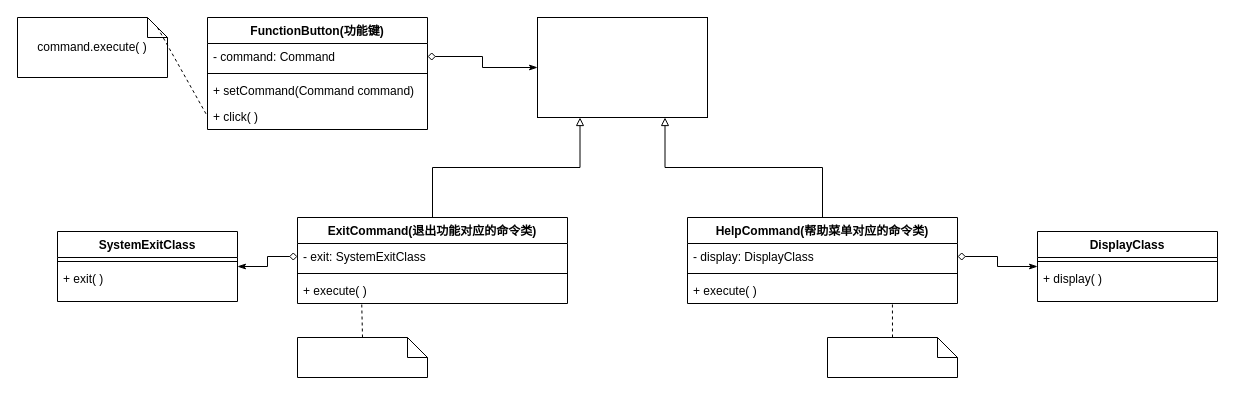
The diagram is 1235 pixels wide and 395 high, and some of its shapes have lost their labels. Here are the shapes that lost their labels. From the top down, the centre of each, then its label:
the point at 622,67: <<Interface>> Command + execute( )
the point at 362,357: exit.exit()
the point at 892,357: display.display()
